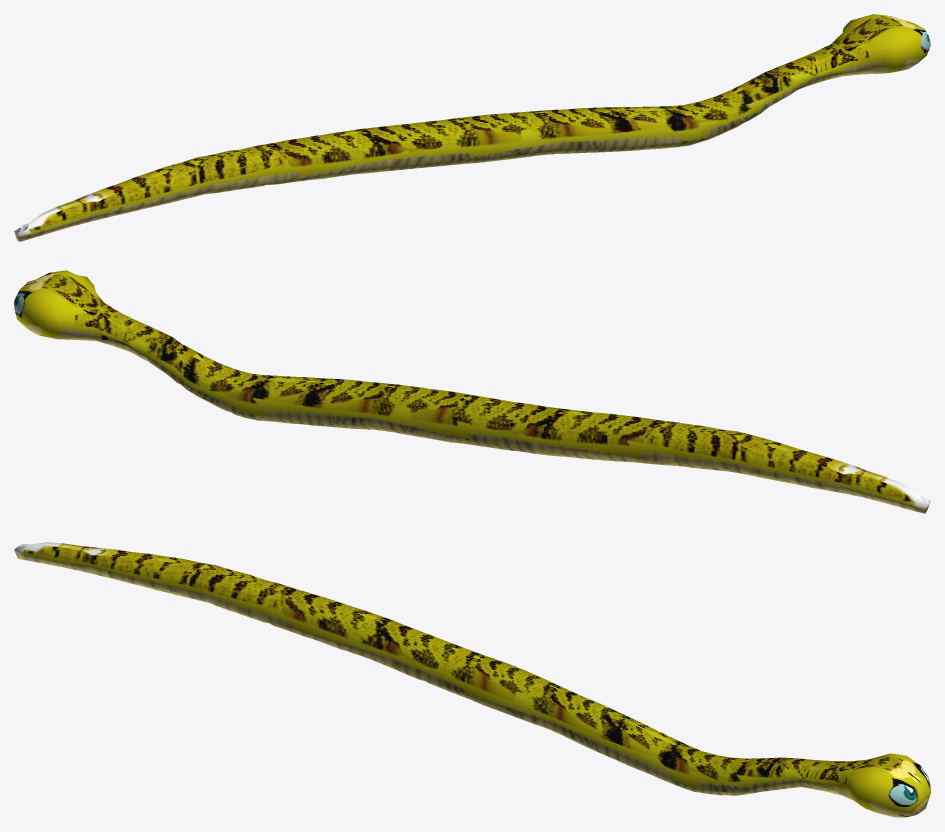
Rendered from snake_aug_6.obj.
3 views of the same model, one above another, from view 1: azimuth 30°, elevation 25°; view 2: azimuth 150°, elevation 25°; view 3: azimuth 330°, elevation 25° (orthographic).
Size of the model in its own units: 98.07 by 10.21 by 8.75.
1 material, 1 textured.
